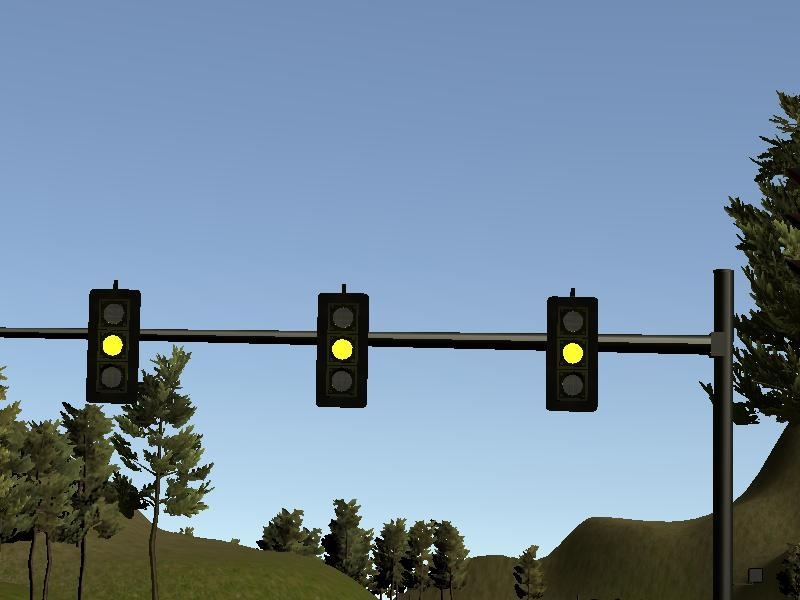YELLOW: (545, 290, 603, 411), (313, 287, 371, 408), (85, 281, 143, 402)
